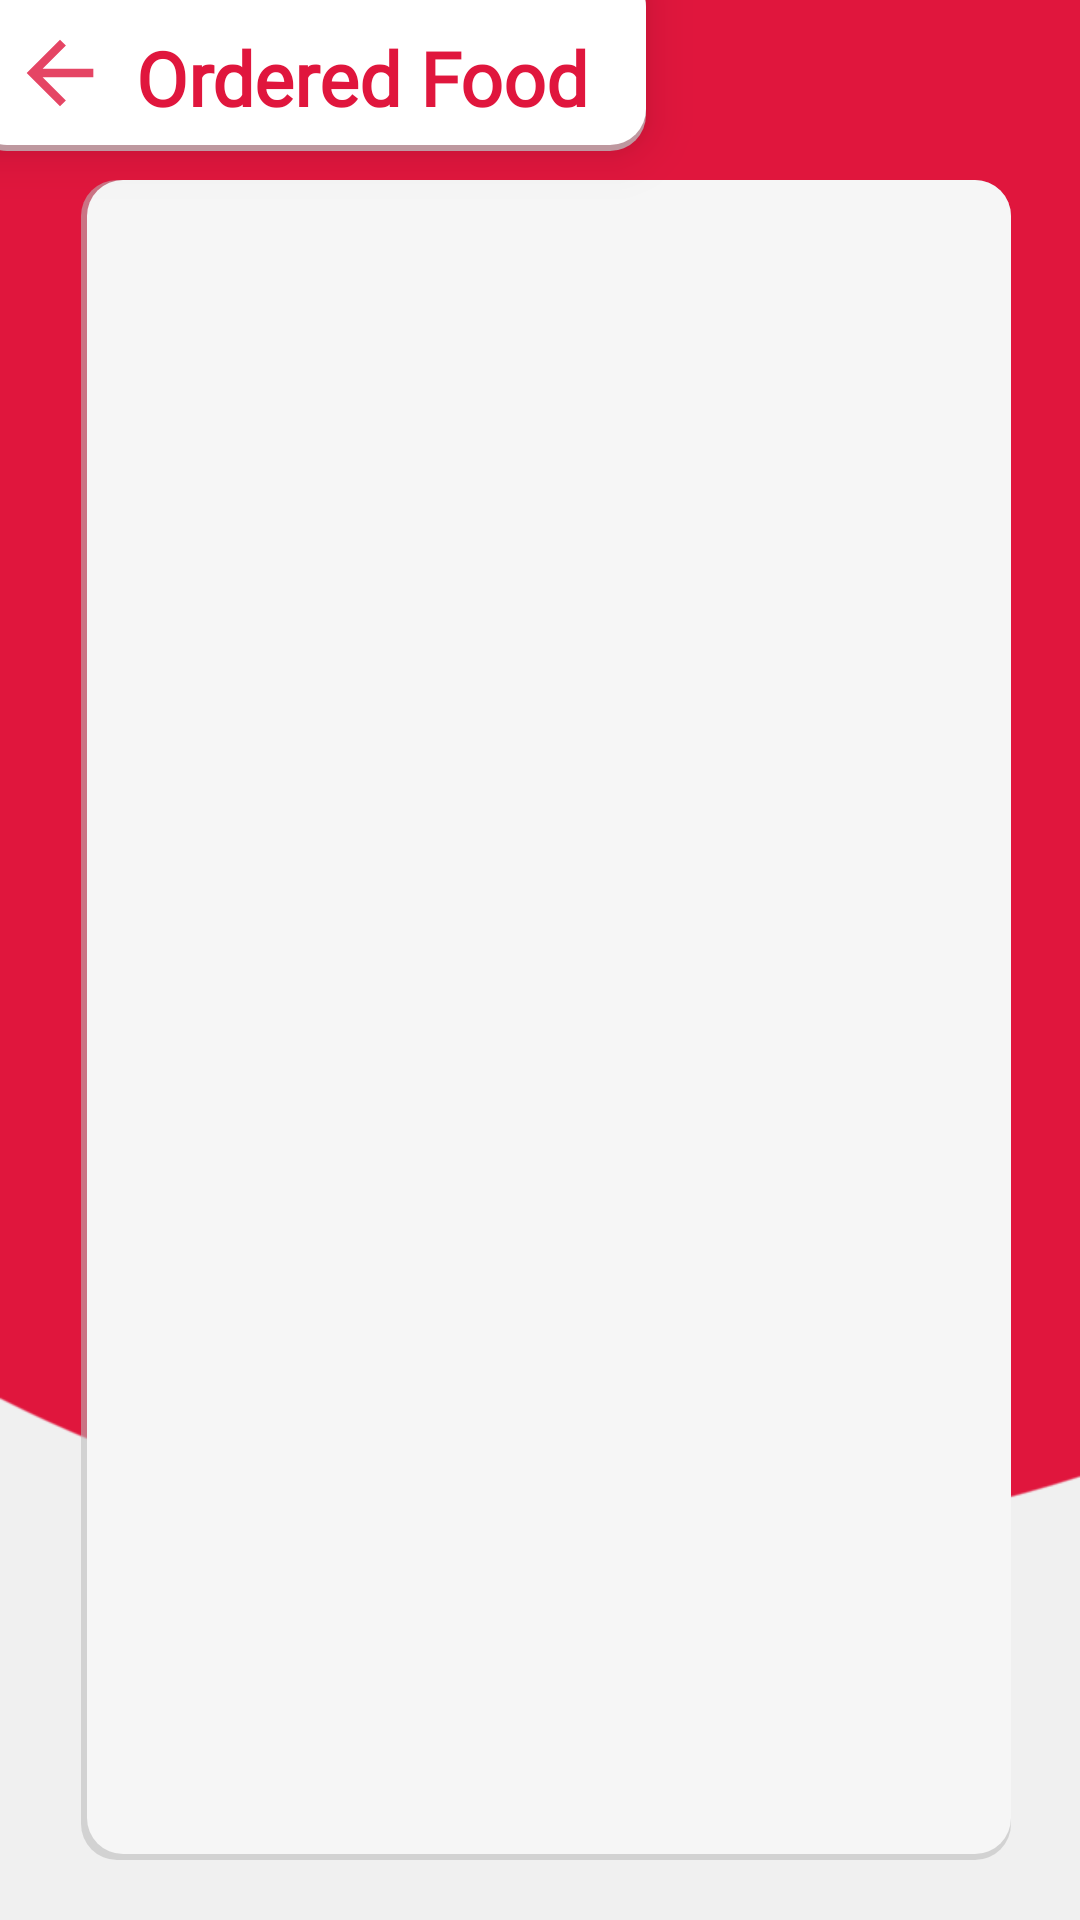

Point at icon controls on the screen. Image size 1080x1920, points as point (x, y).
back: point (60, 73)
